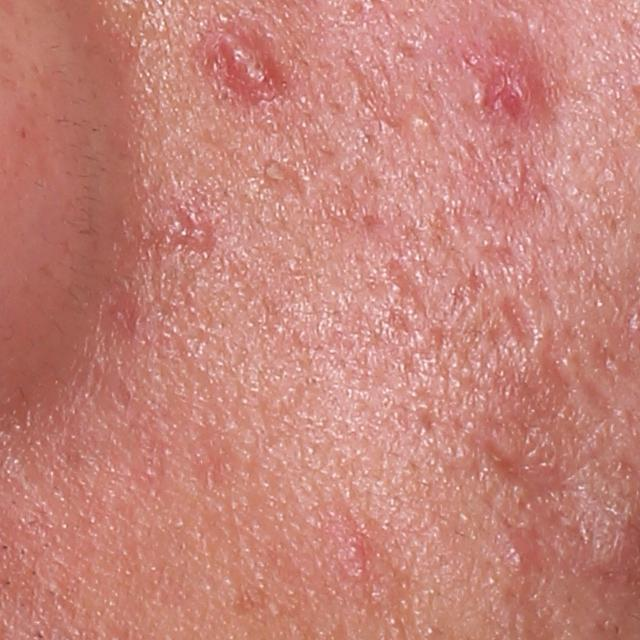atrophic_scar: (537, 285, 613, 415), (343, 53, 399, 130), (480, 434, 535, 489), (386, 255, 431, 316), (503, 295, 535, 352)
comedo: (406, 110, 440, 136)
papule: (215, 23, 289, 103), (484, 54, 550, 124), (184, 220, 213, 265)
